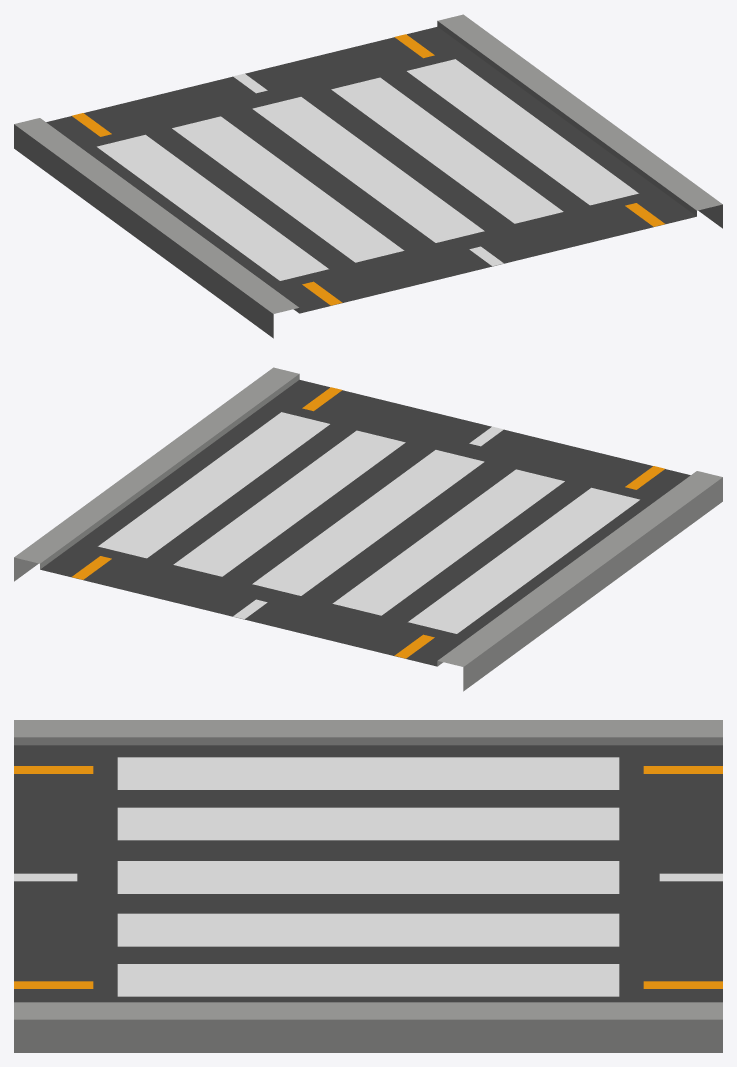
The model's file is Road_A_2_1.fbx.
3 views of the same model, one above another, from view 1: azimuth 30°, elevation 25°; view 2: azimuth 150°, elevation 25°; view 3: azimuth 270°, elevation 25° (orthographic). The views are drawn at different scales.
Visible parts, largest first — view 1: Road_A_2_1; view 2: Road_A_2_1; view 3: Road_A_2_1.
Part boxes in pixels (x1,y1,x2,y2): Road_A_2_1: [14, 14, 722, 338]; Road_A_2_1: [14, 367, 722, 691]; Road_A_2_1: [14, 720, 722, 1052].
Bounding box in the file's own units: 800 × 41.48 × 800.
